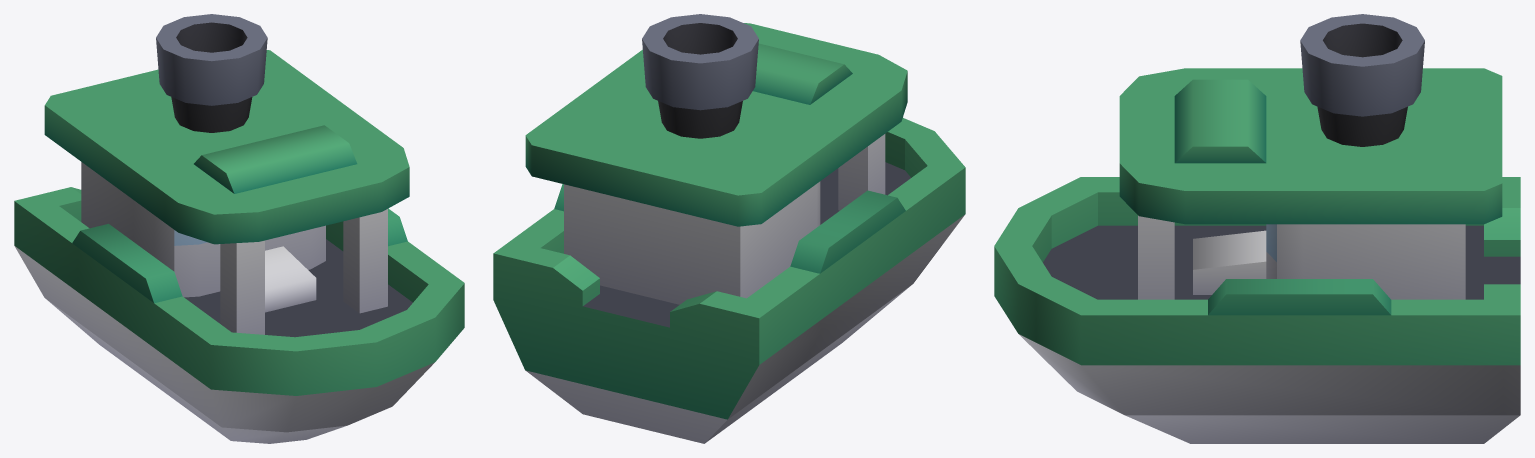
Rendered from boat-tug-b.glb.
3 renders of one model, left to right at view 1: azimuth 30°, elevation 25°; view 2: azimuth 150°, elevation 25°; view 3: azimuth 270°, elevation 25°, orthographic. The views are drawn at different scales.
Visible parts, largest first — view 1: boat-tug-b; view 2: boat-tug-b; view 3: boat-tug-b.
Boxes of the visible parts, bbox=[...] form: boat-tug-b: bbox=[14, 14, 464, 443]; boat-tug-b: bbox=[493, 14, 965, 443]; boat-tug-b: bbox=[994, 14, 1520, 443].
Bounding box in the file's own units: 1.78 × 2.24 × 2.87.
